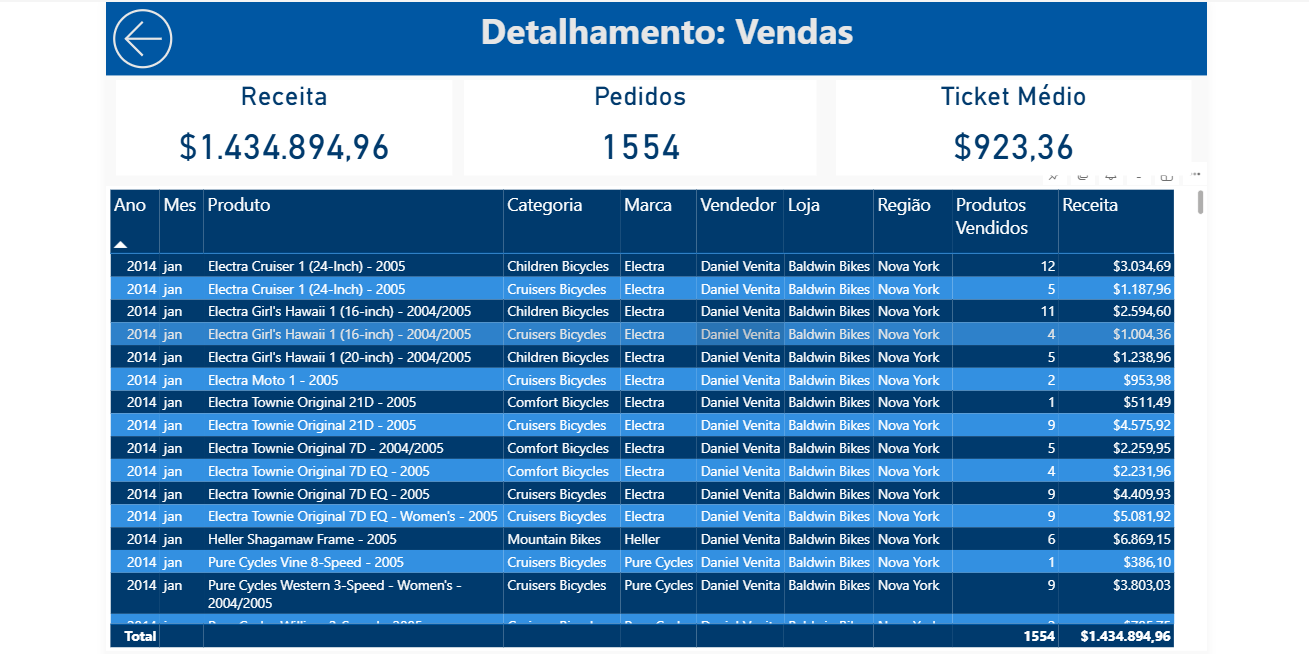

What the dashboard file says about the page in this screenshot:
{"tool":"powerbi","page":{"name":"Detalhamento","canvas":[1500,900],"ordinal":4},"visuals":[{"type":"textbox","box":[0,0,1500,100],"z":0},{"type":"tableEx","fields":{"Values":["Calendario.Ano","Calendario.Mes Abrev","Product.Name","Product.CategoryName","Product.BrandName","Employee.FullName","Store.Name","Store.Região","Medidas.Produtos Vendidos","Medidas.Receita Produtos"]},"box":[0,250,1500,633.3],"z":1000},{"type":"actionButton","box":[0,0,100,100],"z":2000},{"type":"card","title":"Receita","fields":{"Values":["Medidas.Receita Produtos"]},"box":[14,106,458,130],"z":3000},{"type":"card","title":"Pedidos","fields":{"Values":["Medidas.Produtos Vendidos"]},"box":[488,106,480,130],"z":4000},{"type":"card","title":"Ticket Médio","fields":{"Values":["Medidas.Ticket Medio Produto"]},"box":[994,106,484,130],"z":5000}]}

Visuals, with their boxes on the page's 1500x900 design canvas (x1, y1, x2, y2). These are canvas units, not pixel positions in the 1309x654 screenshot, which may show the page scaled, cropped or inside an application window:
textbox: (x1=0, y1=0, x2=1500, y2=100)
tableEx - Calendario.Ano x Calendario.Mes Abrev: (x1=0, y1=250, x2=1500, y2=883)
actionButton: (x1=0, y1=0, x2=100, y2=100)
"Receita" card: (x1=14, y1=106, x2=472, y2=236)
"Pedidos" card: (x1=488, y1=106, x2=968, y2=236)
"Ticket Médio" card: (x1=994, y1=106, x2=1478, y2=236)
